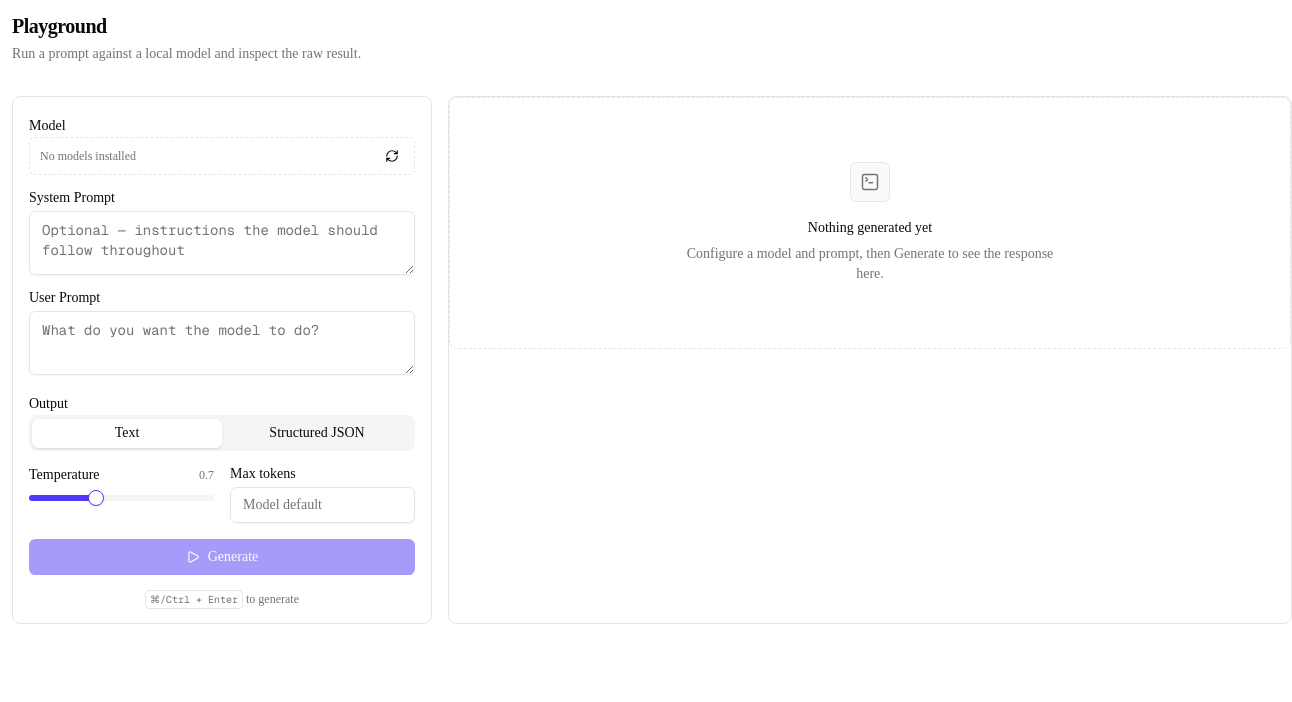
it: PlaygroundPage › switches to structured mode and shows the schema editor
Expected: the field labelled "Response JSON Schema" is not shown
What coordinates should you click on to do the following:
click the tab "Structured JSON"
I would click on:
 (317, 433)
Its box is [222,418,412,448].
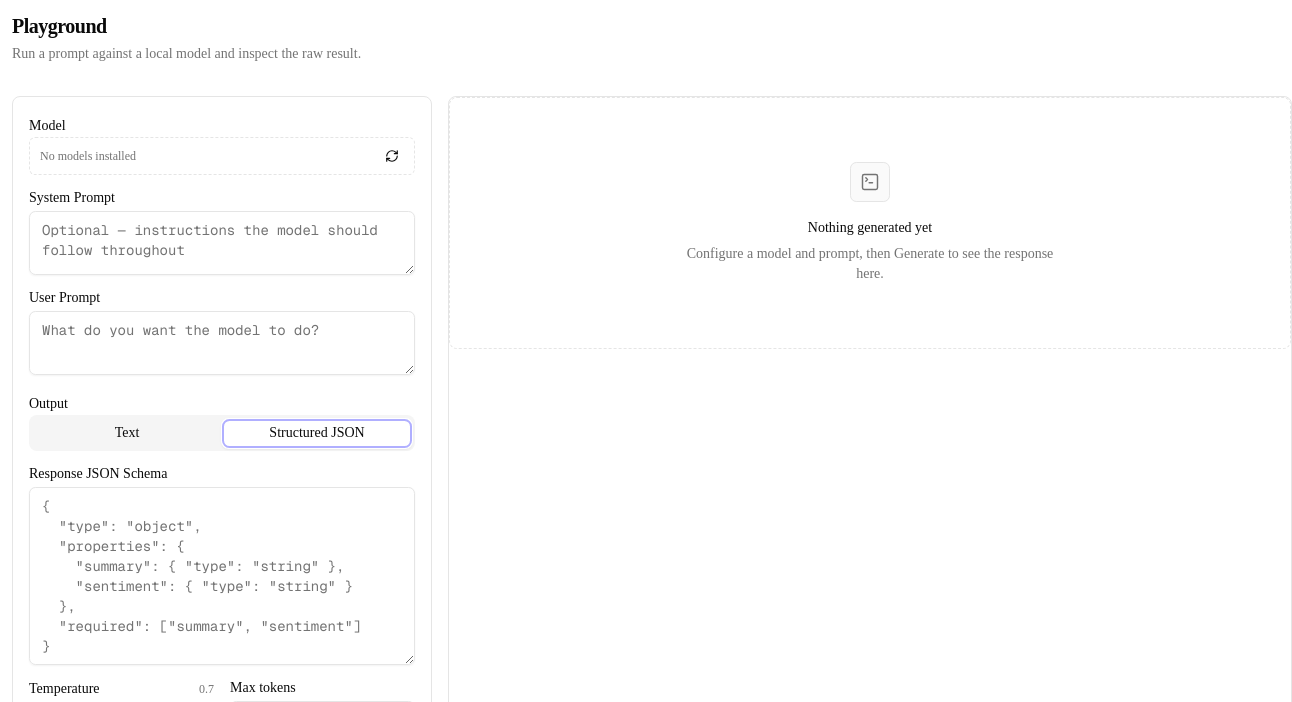
Result: the text box labelled "Response JSON Schema" is shown at [29,487,415,665]
